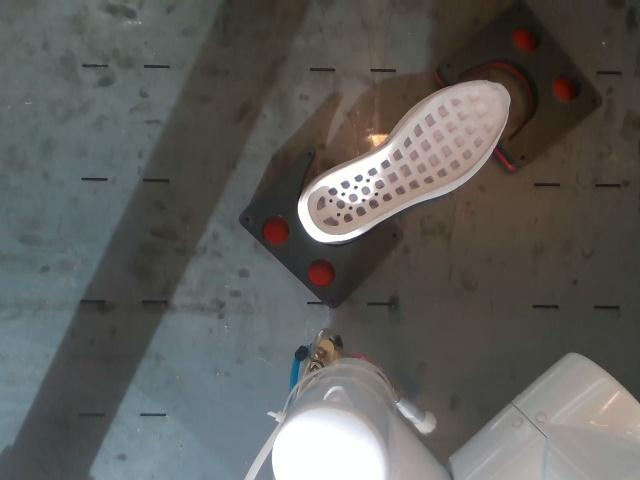shoes: (308, 82, 510, 235)
